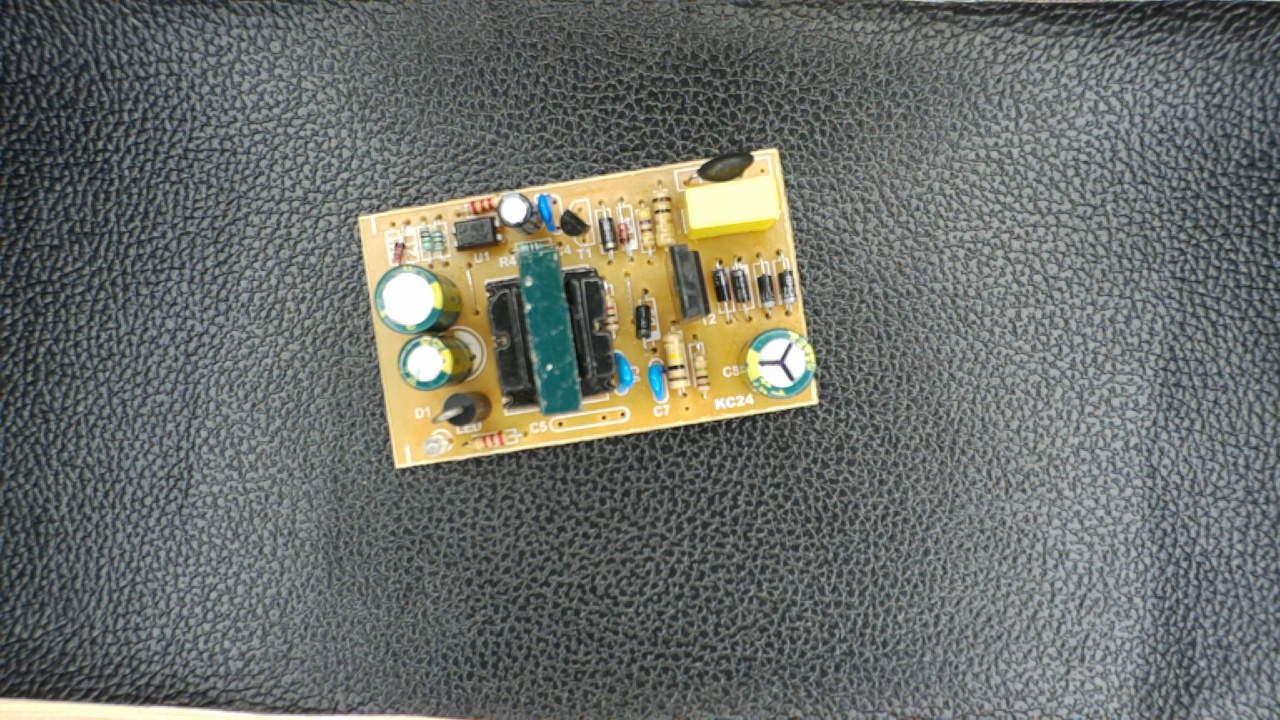fuse: (674, 147, 774, 185)
hv_capacitor: (741, 324, 818, 402)
optocoupler: (446, 210, 504, 255)
